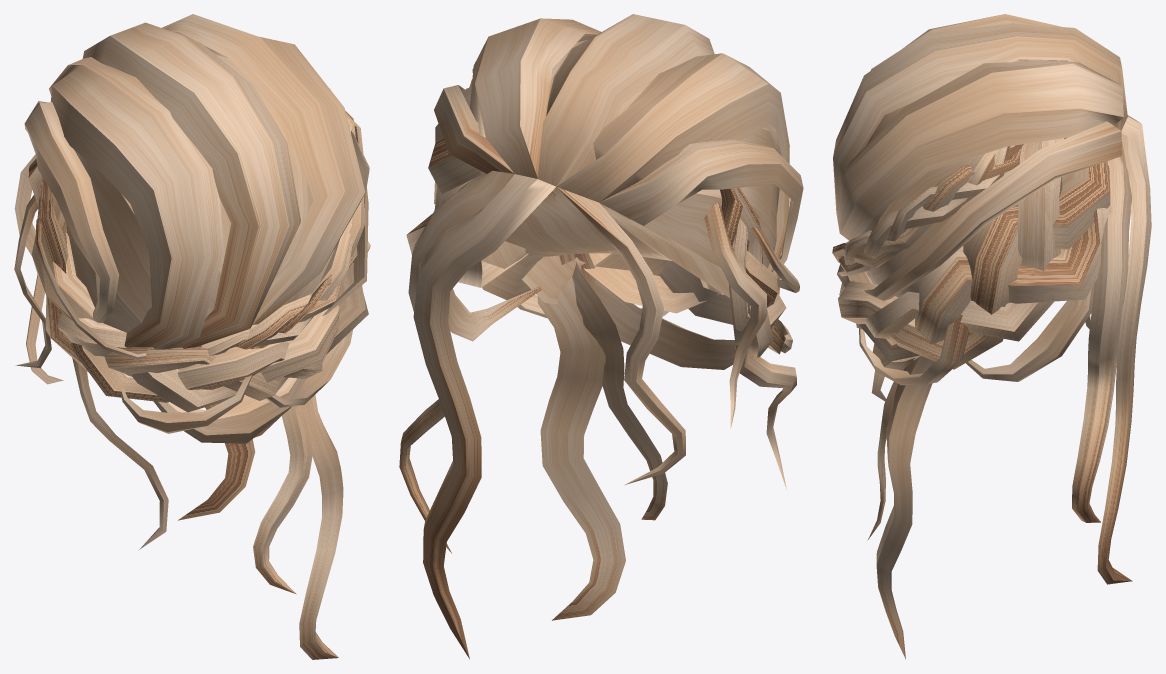
3 renders of one model, left to right at view 1: azimuth 30°, elevation 25°; view 2: azimuth 150°, elevation 25°; view 3: azimuth 270°, elevation 25°, orthographic. The views are drawn at different scales.
Visible parts, largest first — view 1: geometry_0; view 2: geometry_0; view 3: geometry_0.
Part boxes in pixels (bbox=[...]): geometry_0: bbox=[14, 14, 370, 659]; geometry_0: bbox=[399, 14, 803, 659]; geometry_0: bbox=[832, 14, 1151, 659].
Size of the model in its own units: 1.66 by 3.04 by 1.52.
Materials: 1 (1 with a texture image).
